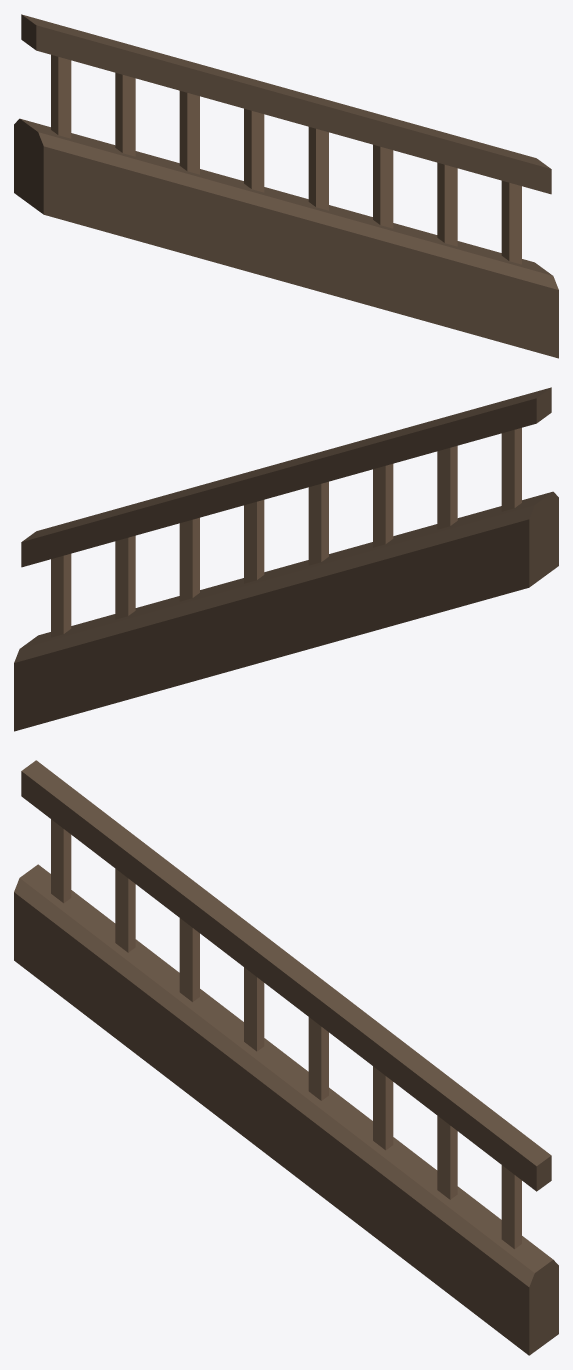
Rendered from Wood_Railing_Stairs.obj.
3 views of the same model, one above another, from view 1: azimuth 30°, elevation 25°; view 2: azimuth 150°, elevation 25°; view 3: azimuth 330°, elevation 25° (orthographic).
Parts seen in each view (by area): view 1: object7, object6, object3, object4, object1, object9, object5, object8, object10, object2; view 2: object7, object6, object3, object4, object1, object9, object5, object8, object10, object2; view 3: object7, object6, object8, object10, object2, object5, object1, object9, object3, object4.
Boxes of the visible parts, x1,y1,x2,y2 form: object7: (14,118,558,358); object6: (21,14,551,194); object3: (373,144,393,228); object4: (51,55,71,138); object1: (437,162,457,246); object9: (244,108,264,192); object5: (115,73,135,156); object8: (501,180,521,264); object10: (179,91,199,174); object2: (308,127,328,210); object7: (14,491,558,731); object6: (21,387,551,567); object3: (179,517,199,601); object4: (501,428,521,511); object1: (115,535,135,619); object9: (308,481,328,565); object5: (437,446,457,529); object8: (51,553,71,637); object10: (373,464,393,547); object2: (244,500,264,583); object7: (14,864,558,1355); object6: (21,760,551,1191); object8: (501,1165,521,1249); object10: (179,918,199,1001); object2: (308,1017,328,1100); object5: (115,868,135,952); object1: (437,1116,457,1199); object9: (244,967,264,1051); object3: (373,1066,393,1150); object4: (51,819,71,903).
Size of the model in its own units: 2 by 1.68 by 0.2.
